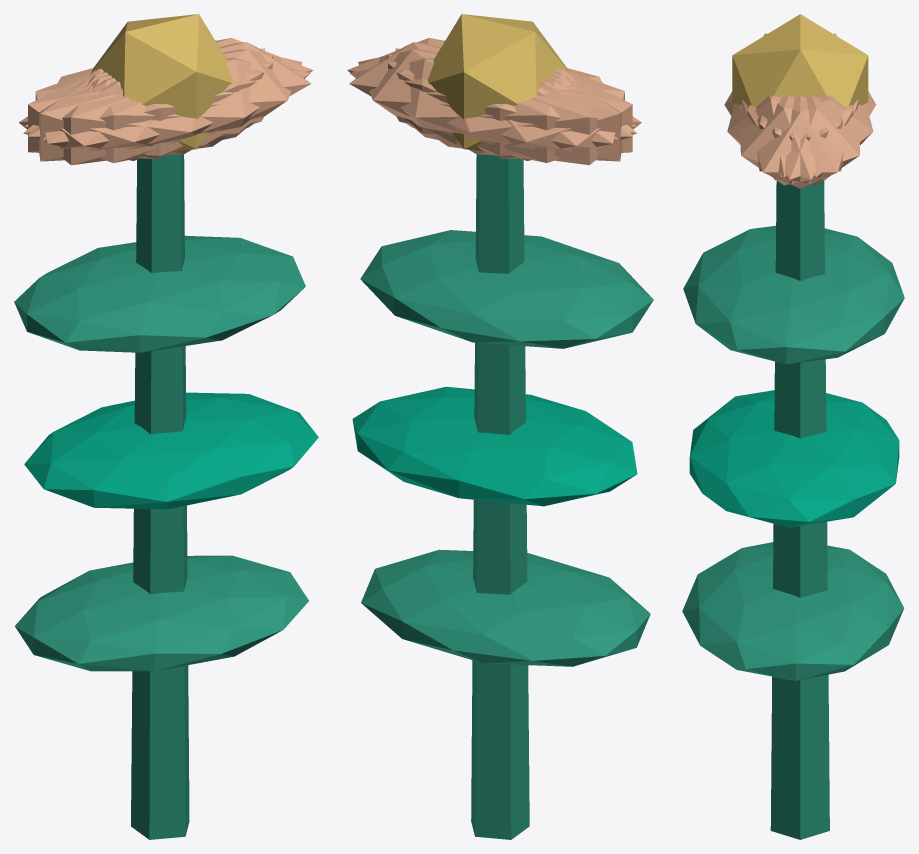
File: morinda-citrifolia.glb
3 renders of one model, left to right at view 1: azimuth 30°, elevation 25°; view 2: azimuth 150°, elevation 25°; view 3: azimuth 270°, elevation 25°, orthographic.
Parts seen in each view (by area): view 1: stem, leaf2, leaf0, leaf1, center, petal1, petal6, petal2, petal5, petal7, petal0, petal4 (+2 smaller); view 2: stem, leaf2, leaf0, leaf1, center, petal8, petal3, petal7, petal4, petal2, petal0, petal5 (+2 smaller); view 3: stem, leaf2, leaf1, leaf0, center, petal0, petal5, petal4, petal1, petal8.
Part boxes in pixels (box(x1,y1,x2,y2)): stem: box(131, 154, 189, 839); leaf2: box(14, 235, 305, 352); leaf0: box(15, 555, 308, 671); leaf1: box(24, 392, 318, 509); center: box(91, 14, 232, 151); petal1: box(23, 57, 310, 162); petal6: box(19, 70, 226, 165); petal2: box(39, 48, 264, 161); petal5: box(42, 49, 302, 155); petal7: box(28, 54, 273, 158); petal0: box(91, 42, 311, 145); petal4: box(24, 38, 313, 136); stem: box(471, 154, 529, 839); leaf2: box(360, 230, 653, 348); leaf0: box(361, 549, 650, 666); leaf1: box(352, 386, 637, 506); center: box(427, 14, 569, 151); petal8: box(350, 57, 637, 162); petal3: box(433, 70, 641, 165); petal7: box(395, 48, 621, 161); petal4: box(358, 49, 617, 155); petal2: box(387, 54, 632, 158); petal0: box(349, 42, 569, 145); petal5: box(347, 38, 635, 136); stem: box(770, 180, 829, 839); leaf2: box(683, 225, 904, 364); leaf1: box(689, 390, 899, 527); leaf0: box(682, 542, 904, 680); center: box(732, 14, 868, 106); petal0: box(742, 96, 858, 188); petal5: box(740, 96, 853, 185); petal4: box(747, 96, 860, 185); petal1: box(727, 95, 843, 177); petal8: box(757, 95, 873, 177).
Size of the model in its own units: 0.1452 by 0.3949 by 0.1002.
